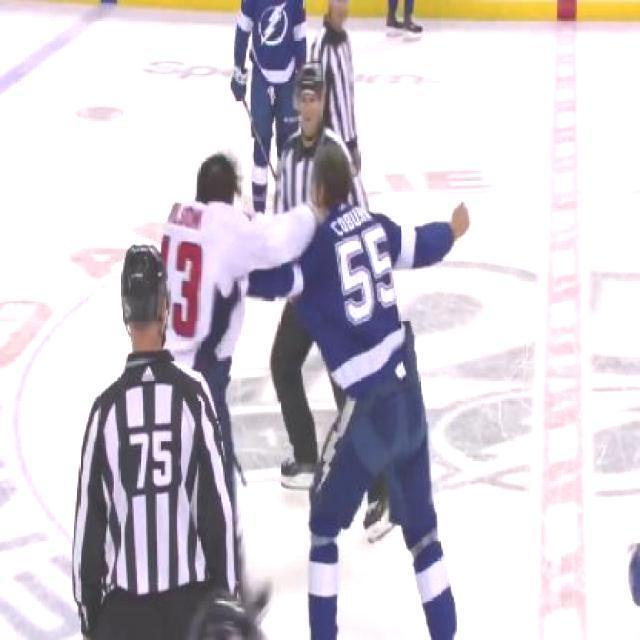fight: (158, 152, 471, 638)
